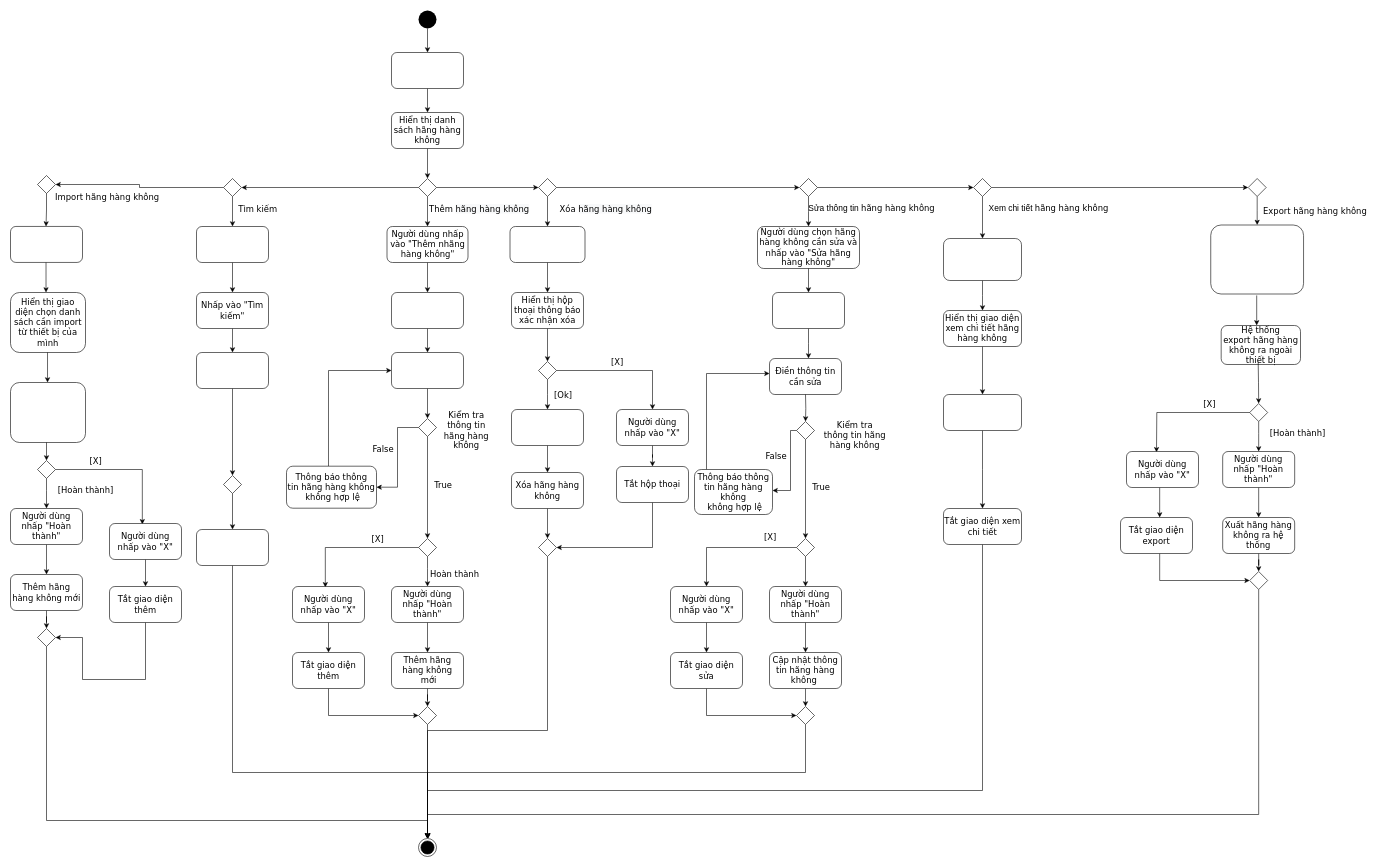
The diagram is 1377 pixels wide and 867 high, and some of its shapes have lost their labels. Each missing label, with the box of its shape:
Chọn danh sách hãng hàng không cần import: (10, 382, 86, 442)
Hiển thị giao diện sửa: (772, 292, 844, 328)
Hiển thị giao diện thêm: (391, 292, 464, 328)
Hiển thị kết quả: (196, 529, 268, 566)
Người dùng chọn 1 hãng hàng không hoặc 1 danh sách hãng hàng không để Export: (1210, 224, 1304, 294)
Người dùng chọn hãng hàng không cần xem chi tiết: (943, 238, 1022, 280)
Người dùng nhấp vào "Ok": (511, 409, 584, 446)
Người dùng nhấp vào "Xóa hãng hàng không": (509, 226, 585, 262)
Người dùng nhấp vào nút "Import": (10, 226, 82, 262)
Nhấn nút X: (943, 394, 1022, 430)
Nhấp vào section: (391, 52, 464, 88)
Nhập chuỗi tìm kiếm: (196, 226, 268, 262)
Tìm kiếm theo chuỗi: (196, 352, 268, 388)
Điền thông tin hãng hàng không: (391, 352, 464, 388)
